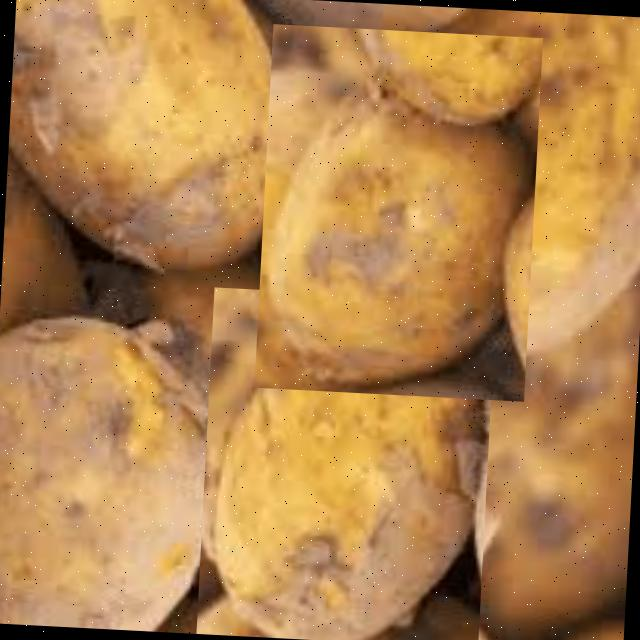Diseased-fungal potato: (254, 23, 544, 401), (196, 286, 496, 640)
